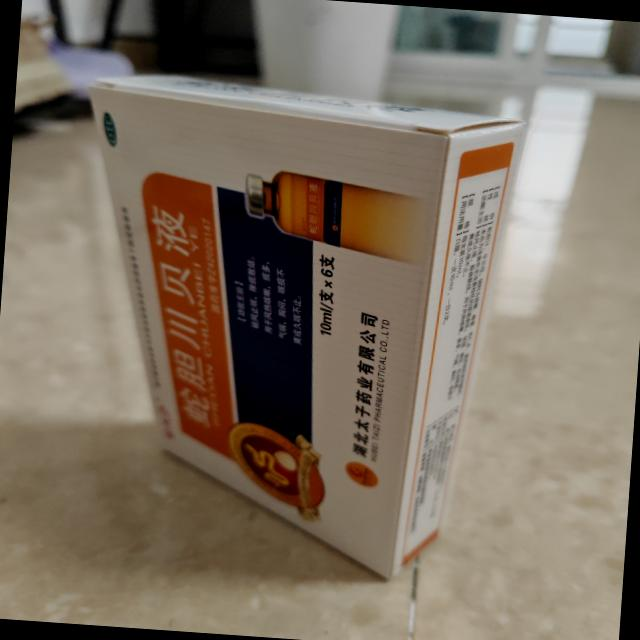box: (45, 63, 534, 594)
